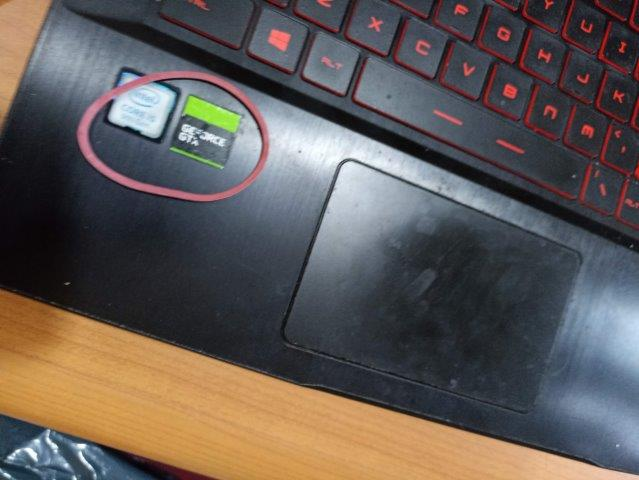karet: (75, 69, 269, 202)
